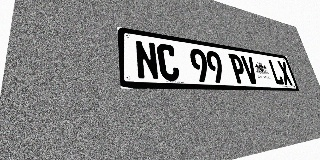9: (189, 48, 211, 82), (205, 50, 226, 83)
C: (156, 43, 181, 81)
L: (267, 59, 285, 85)
N: (134, 40, 160, 80)
P: (228, 53, 248, 84)
V: (240, 55, 260, 84)
X: (277, 60, 293, 85)
